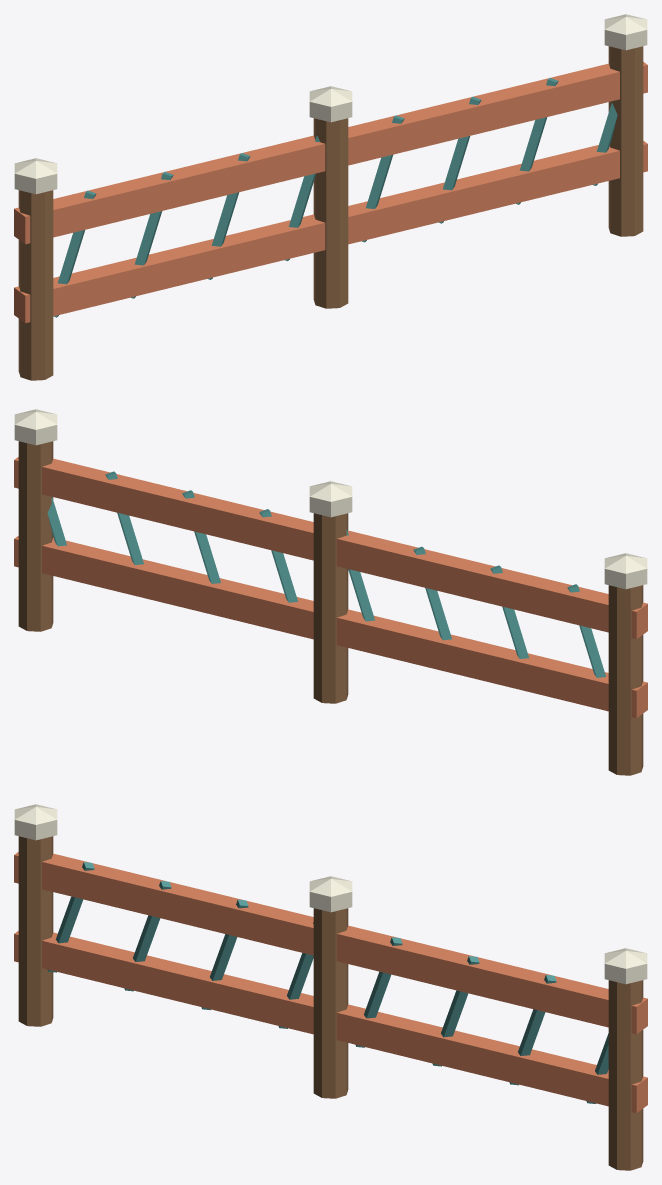
Rendered from fence.glb.
The picture shows the model from 3 angles, top to bottom: view 1: azimuth 30°, elevation 25°; view 2: azimuth 150°, elevation 25°; view 3: azimuth 330°, elevation 25°; orthographic projection.
Visible parts, largest first — view 1: snow-fence; view 2: snow-fence; view 3: snow-fence.
Boxes of the visible parts, x1=… form: snow-fence: x1=14, y1=14, x2=647, y2=380; snow-fence: x1=14, y1=409, x2=647, y2=775; snow-fence: x1=14, y1=804, x2=647, y2=1170.
Bounding box in the file's own units: 3.86 × 1.24 × 0.225.
